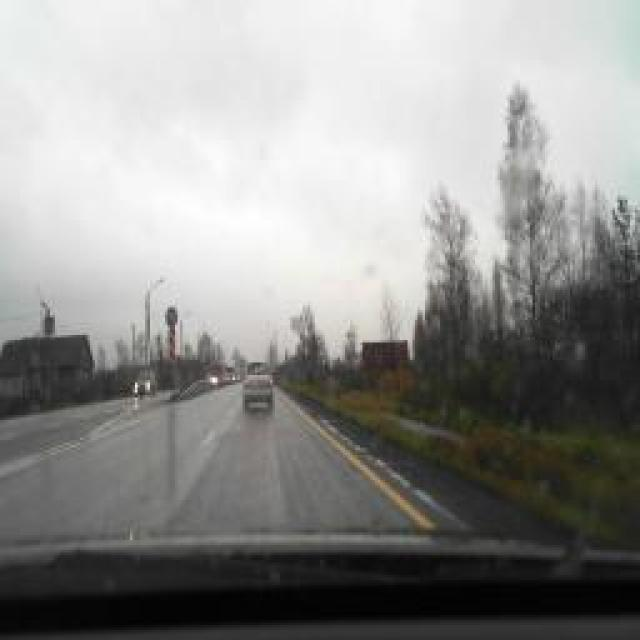sign: (165, 305, 177, 327)
